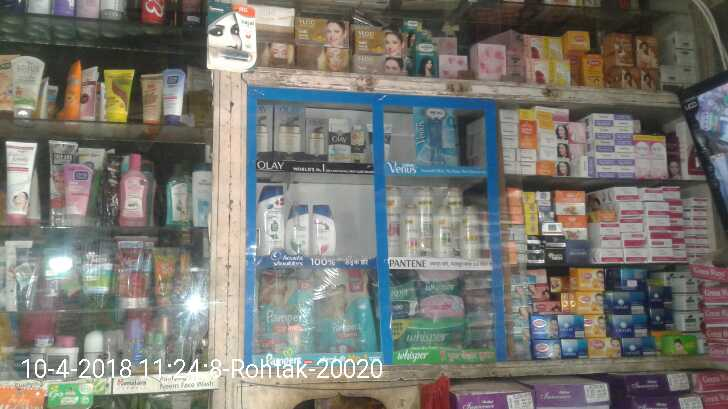venus: (413, 107, 461, 167)
